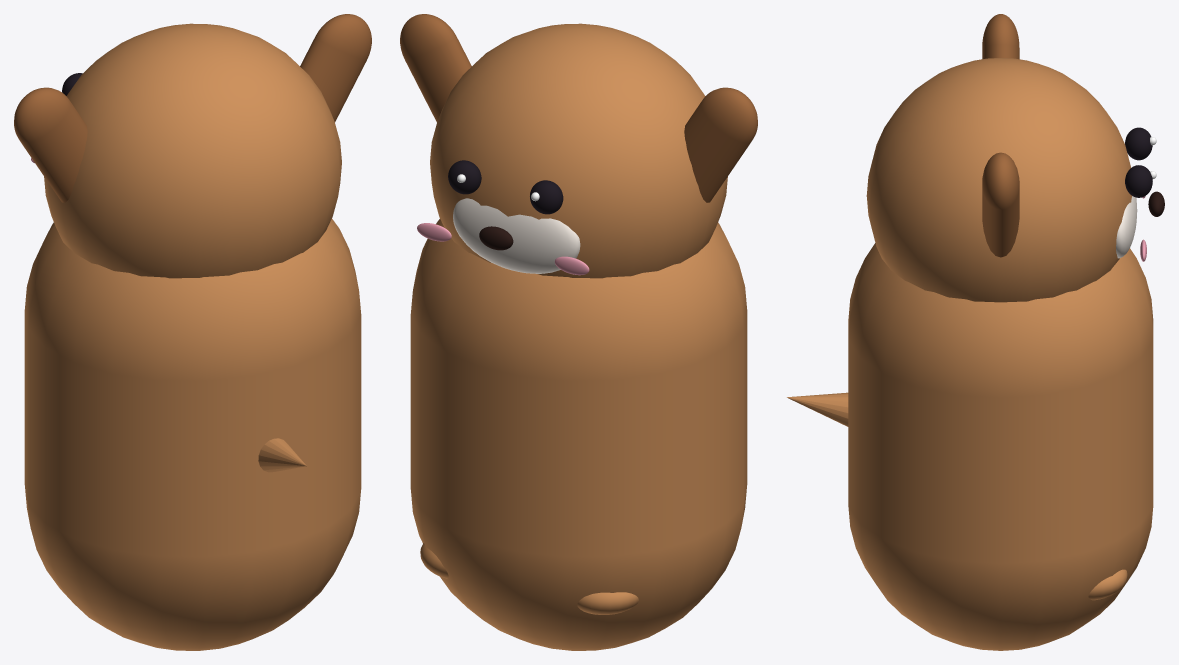
File: phoebe.glb
3 views of the same model, side by side, from view 1: azimuth 30°, elevation 25°; view 2: azimuth 150°, elevation 25°; view 3: azimuth 270°, elevation 25° (orthographic). The views are drawn at different scales.
Bounding box in the file's own units: 0.6763 × 1.09 × 0.6639.
